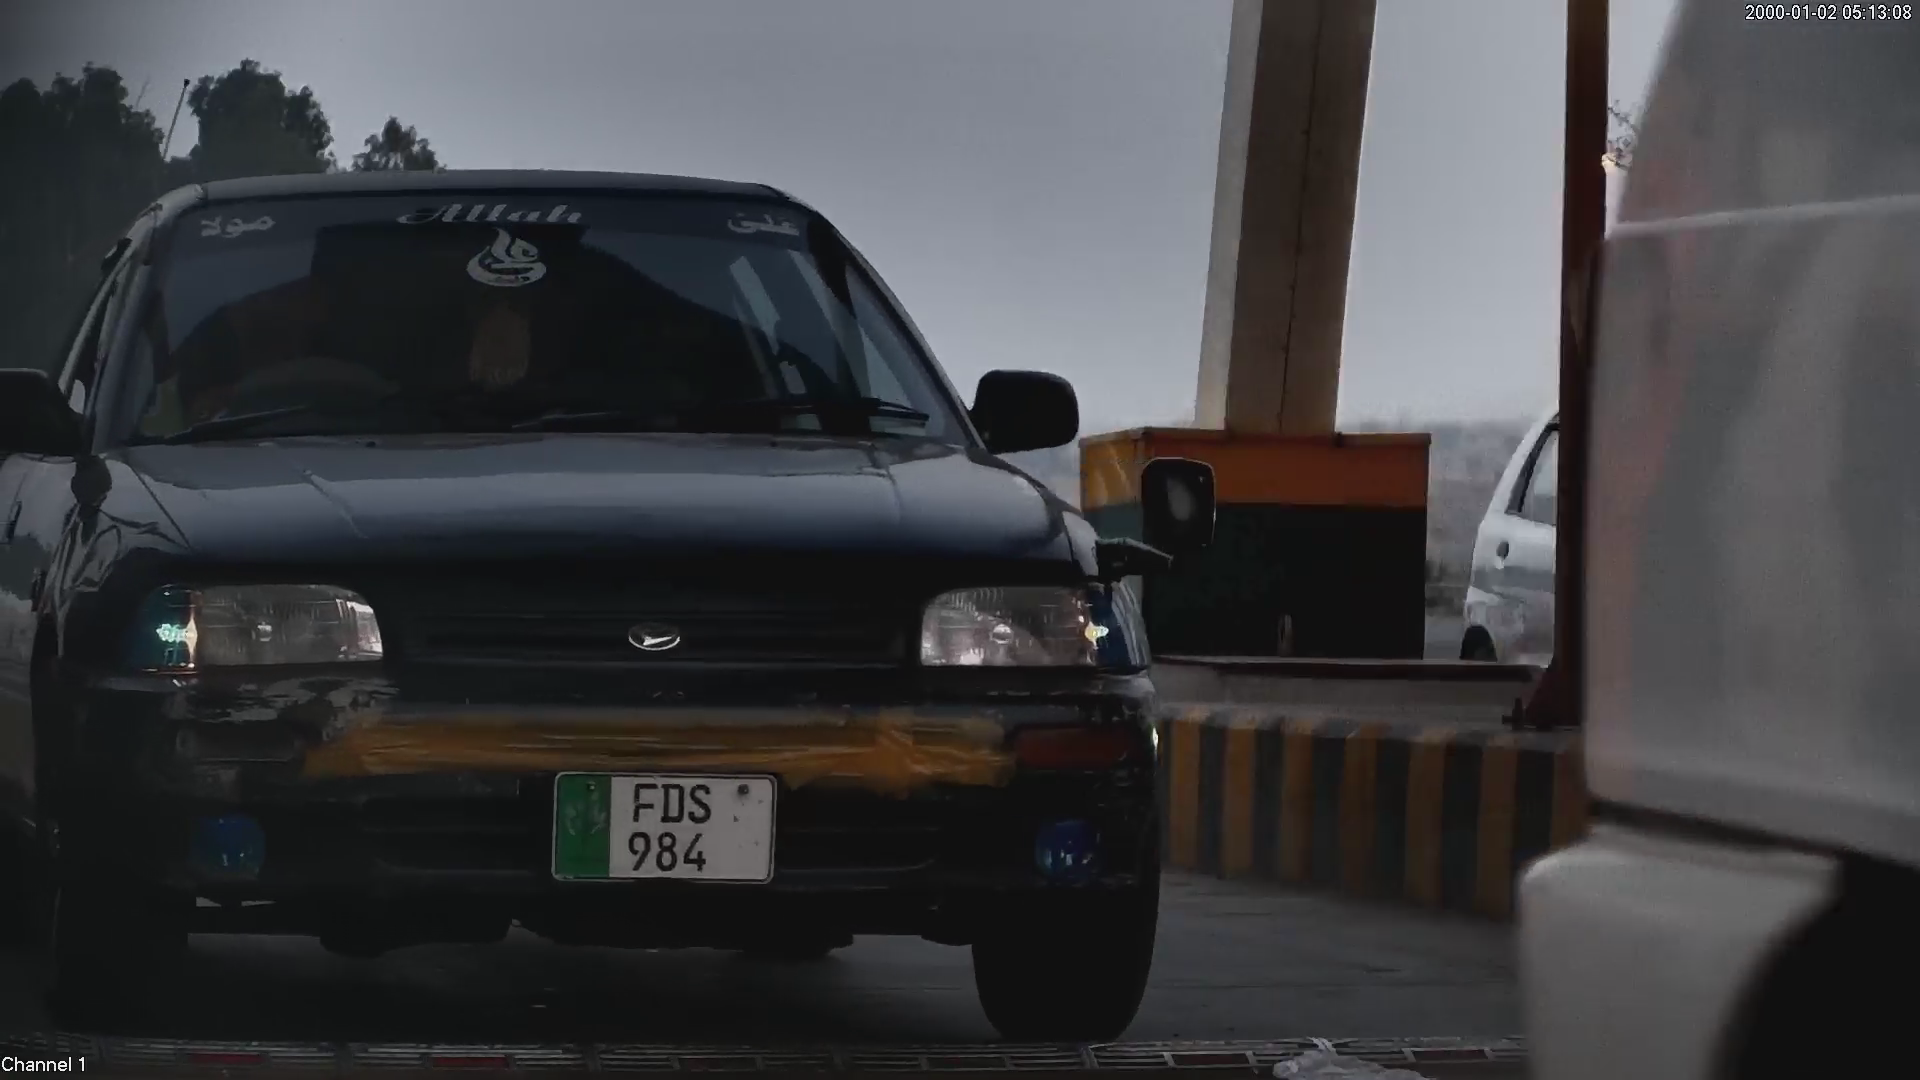Number_Plate: (540, 755, 784, 900)
